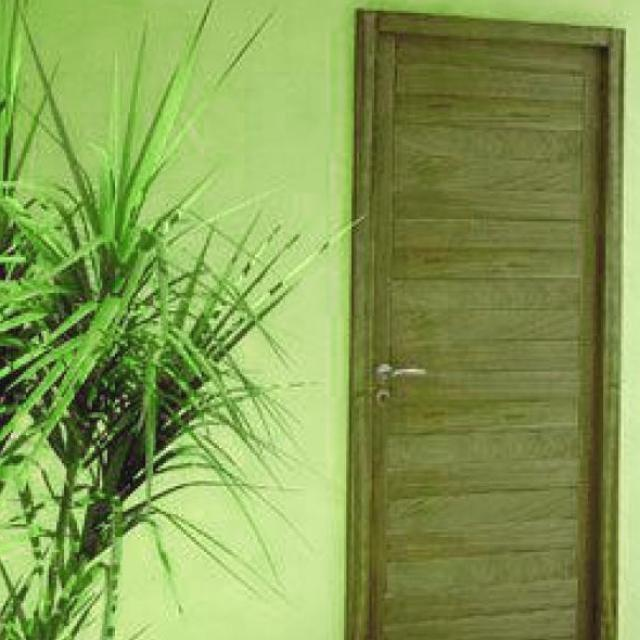door: (346, 8, 617, 639)
